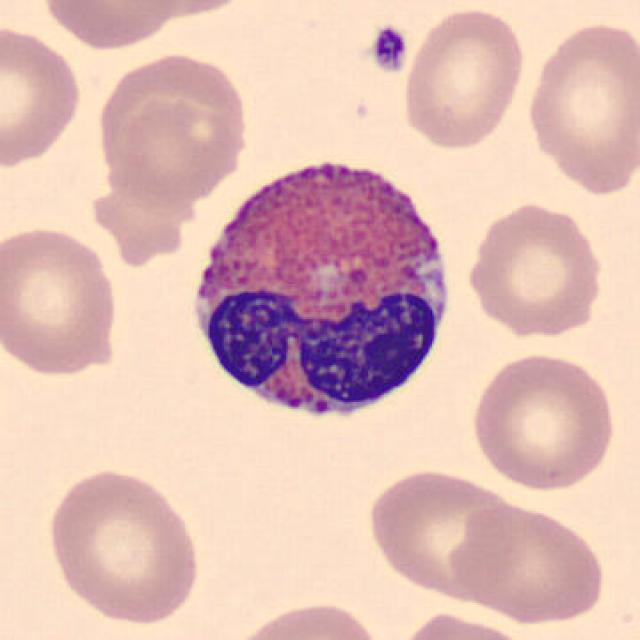Eosinophil: (176, 138, 464, 446)
Platelets: (366, 23, 411, 76)
RBC: (41, 463, 206, 628), (92, 46, 252, 210), (363, 464, 528, 603), (466, 349, 618, 494), (521, 16, 638, 199), (448, 497, 610, 626), (462, 198, 608, 338), (398, 3, 528, 154), (0, 222, 124, 380), (0, 18, 87, 172), (39, 0, 183, 51), (222, 596, 386, 640), (388, 608, 540, 640), (111, 0, 261, 19)
